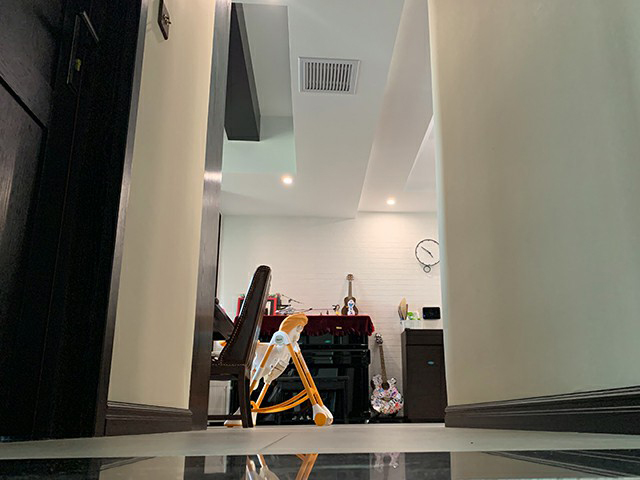cabinet: (400, 327, 448, 424)
stool: (209, 264, 273, 430), (275, 376, 351, 425)
